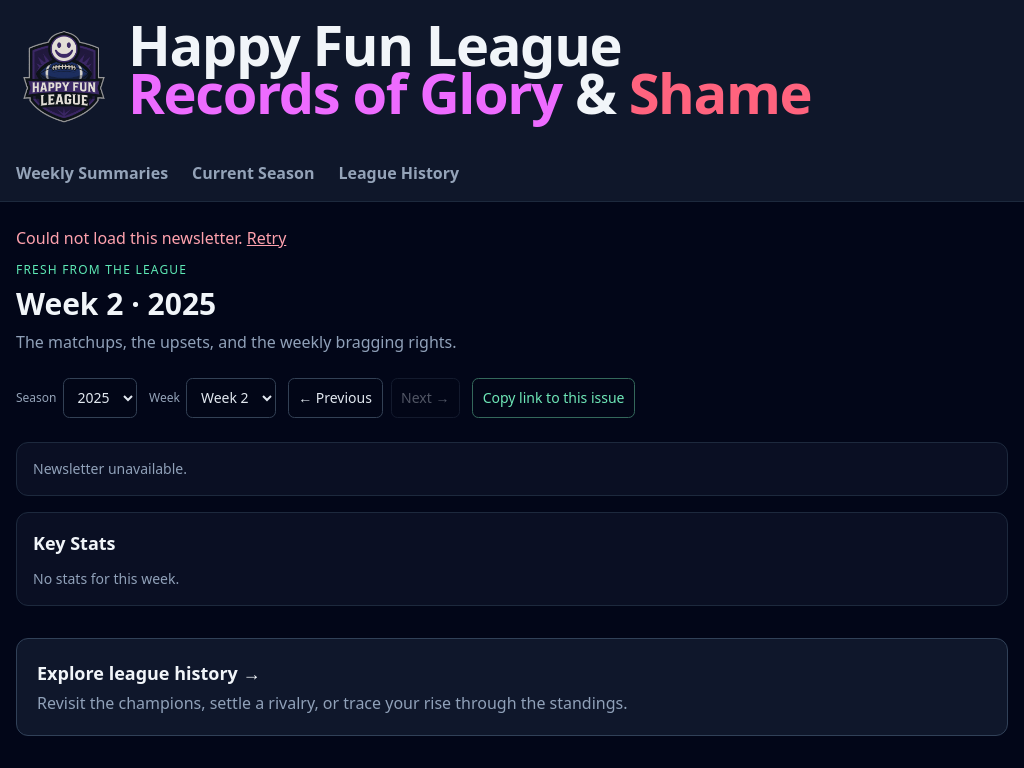
Test: clears a failed issue error when another week succeeds
The image size is (1024, 768).
Expected: the message "Could not load this newsletter. Retry" is shown, [16,226,286,250]
Select "Week 1" in the dropdown named "Select Week" at (231, 398), box [186,378,276,418]
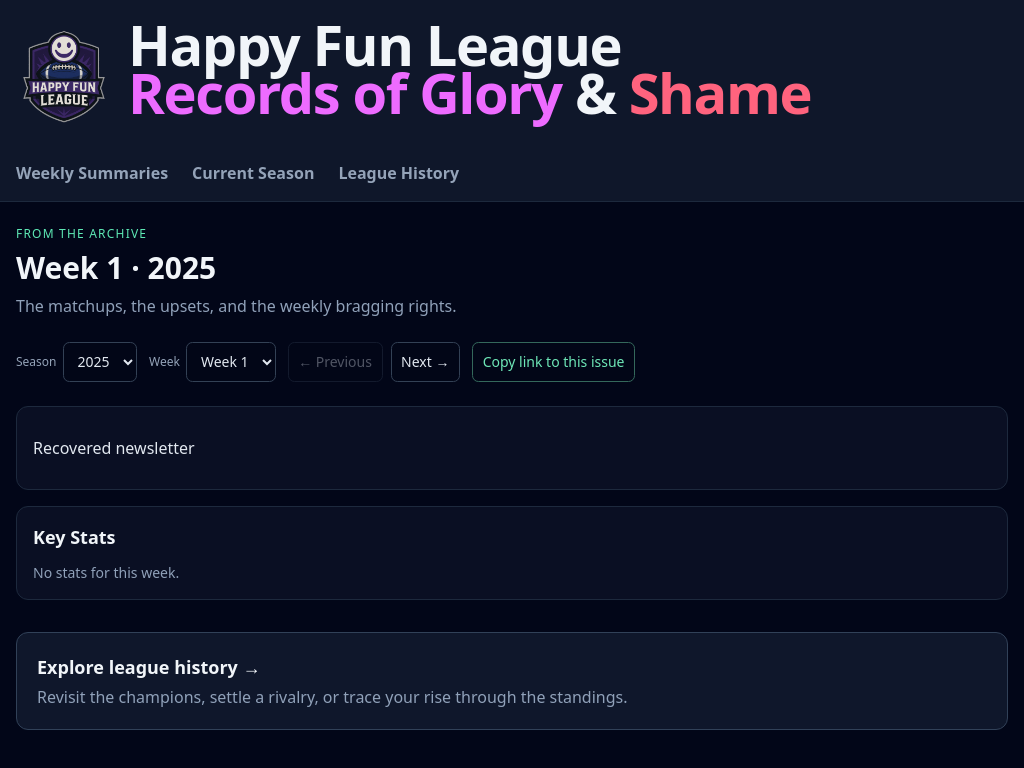
Expected: the text "Recovered newsletter" is shown, [33,437,195,459]
Expected: the message "Could not load this newsletter. Retry" is gone
